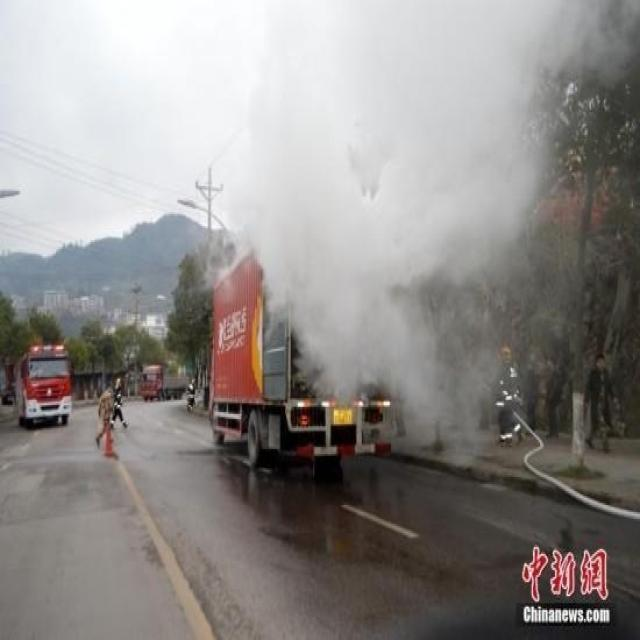Smoke: (201, 2, 639, 470)
